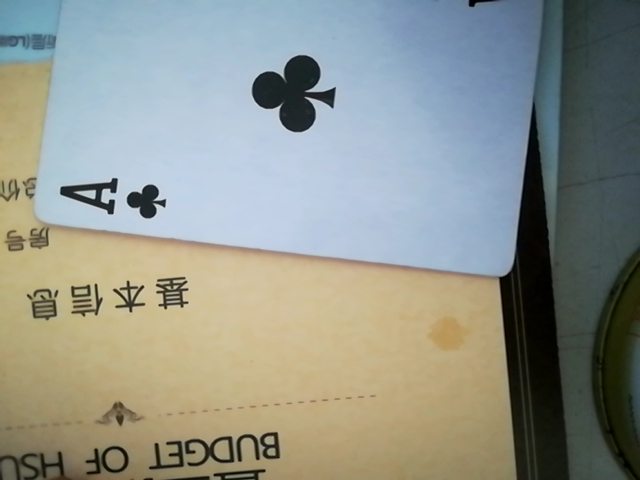mh a: (25, 0, 548, 277)
